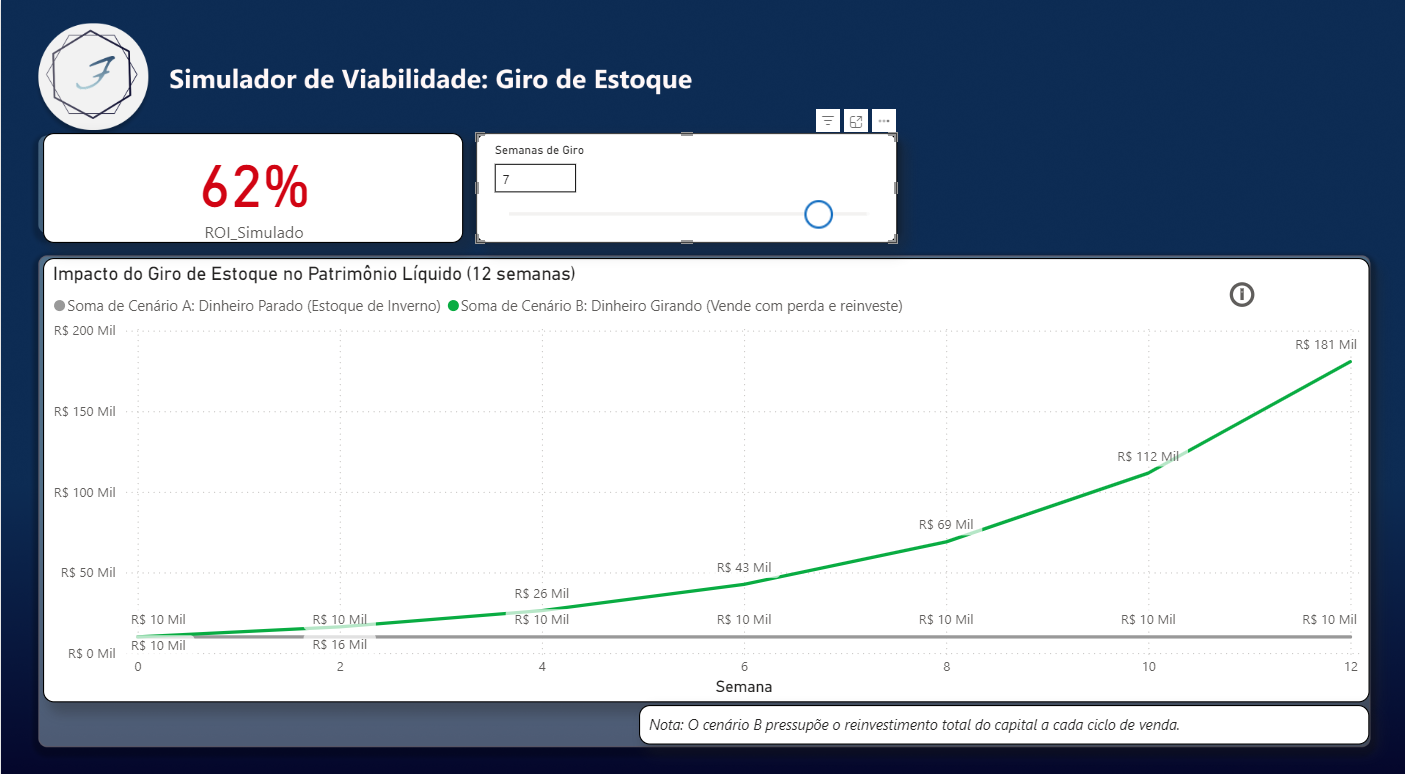

The page's visual inventory and layout, read from the dashboard file:
{"tool":"powerbi","page":{"name":"Página 1","canvas":[1280,720],"ordinal":0},"visuals":[{"type":"lineStackedColumnComboChart","title":"Impacto do Giro de Estoque no Patrimônio Líquido (12 semanas)","fields":{"Category":["Página1.Semana"],"Y2":["Sum(Página1.Cenário A: Dinheiro Parado (Estoque de Inverno))","Sum(Página1.Cenário B: Dinheiro Girando (Vende com perda e reinveste))"]},"box":[37.8,234.4,1205.6,404.4],"z":0},{"type":"card","fields":{"Values":["Página1.ROI_Giro"]},"box":[37.8,121.1,382,100],"z":1000},{"type":"slicer","fields":{"Values":["Semanas de Giro.Semanas de Giro"]},"box":[431.8,120.9,382.7,100],"z":2000},{"type":"textbox","box":[580,641.1,664.4,35.6],"z":3000},{"type":"actionButton","box":[1112.4,247.3,31,40.4],"z":5000}]}

Visuals, with their boxes in screenshot pixels (x1, y1, x2, y2), scaled from the page's 1280x720 canvas onto the 1405x774 screenshot:
"Impacto do Giro de Estoque no Patrimônio Líquido (12 semanas)" lineStackedColumnComboChart: 41:252:1365:687
card - Página1.ROI_Giro: 41:130:461:238
slicer - Semanas de Giro.Semanas de Giro: 474:130:894:237
textbox: 637:689:1366:727
actionButton: 1221:266:1255:309
